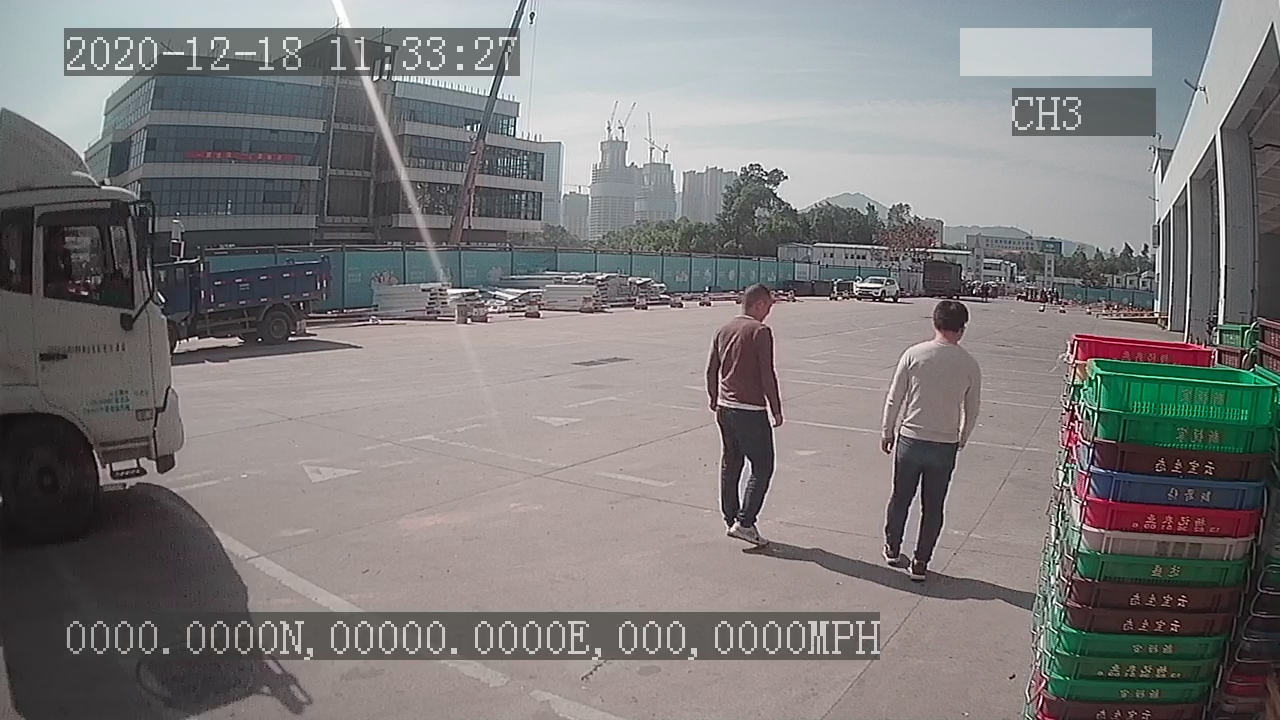person: (881, 297, 982, 580), (706, 279, 786, 544)
